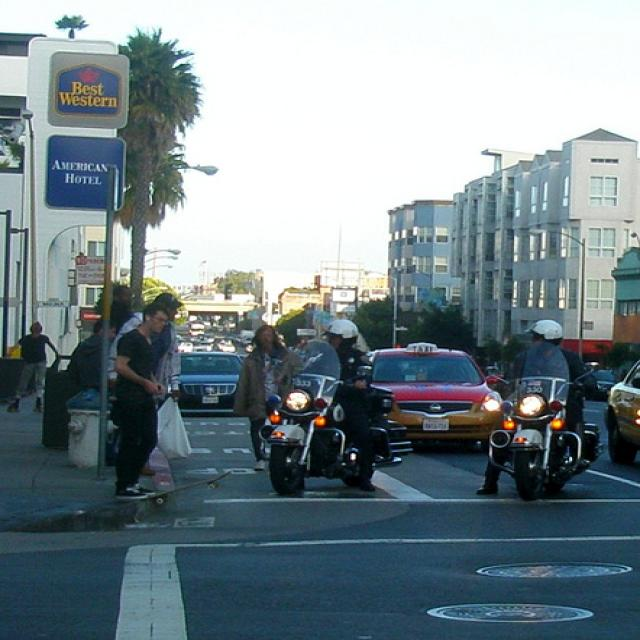motor: (261, 336, 405, 498), (489, 341, 603, 501)
